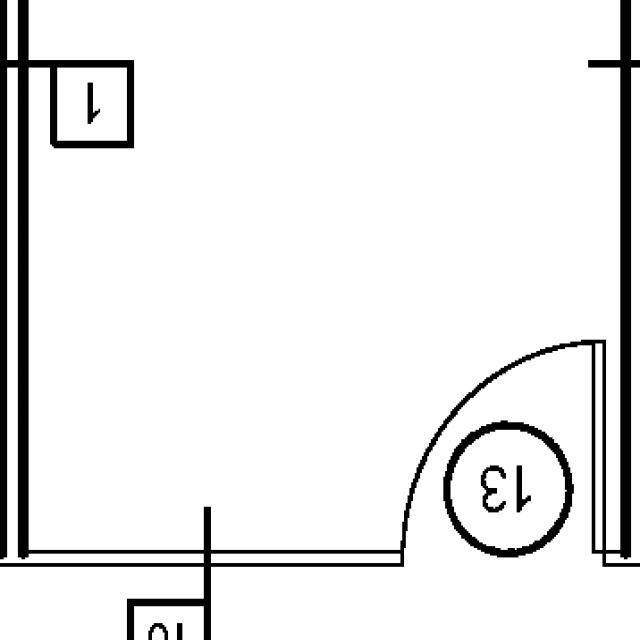Doors: (397, 336, 612, 574)
